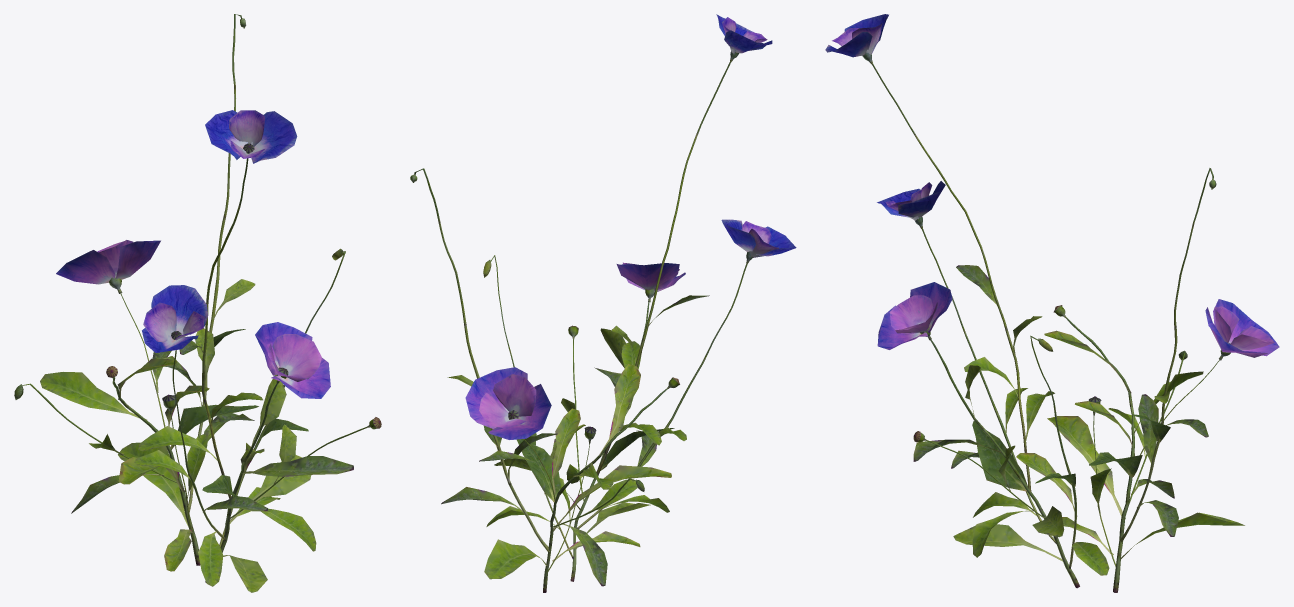
Rendered from Poppy_bush_normal_deepblue.glb.
3 views of the same model, side by side, from view 1: azimuth 30°, elevation 25°; view 2: azimuth 150°, elevation 25°; view 3: azimuth 270°, elevation 25° (orthographic). The views are drawn at different scales.
Parts seen in each view (by area): view 1: bushhhh; view 2: bushhhh; view 3: bushhhh.
Boxes of the visible parts, x1,y1,x2,y2 form: bushhhh: (14,14,381,592); bushhhh: (410,14,796,592); bushhhh: (825,14,1279,592).
Size of the model in its own units: 2.3 by 4.57 by 3.53.
1 material, 1 textured.
